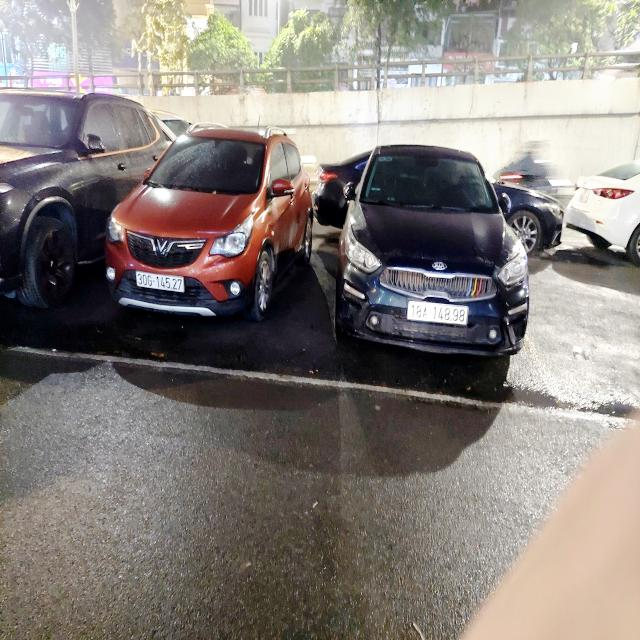license_plate: (406, 299, 472, 330), (135, 269, 187, 296)
